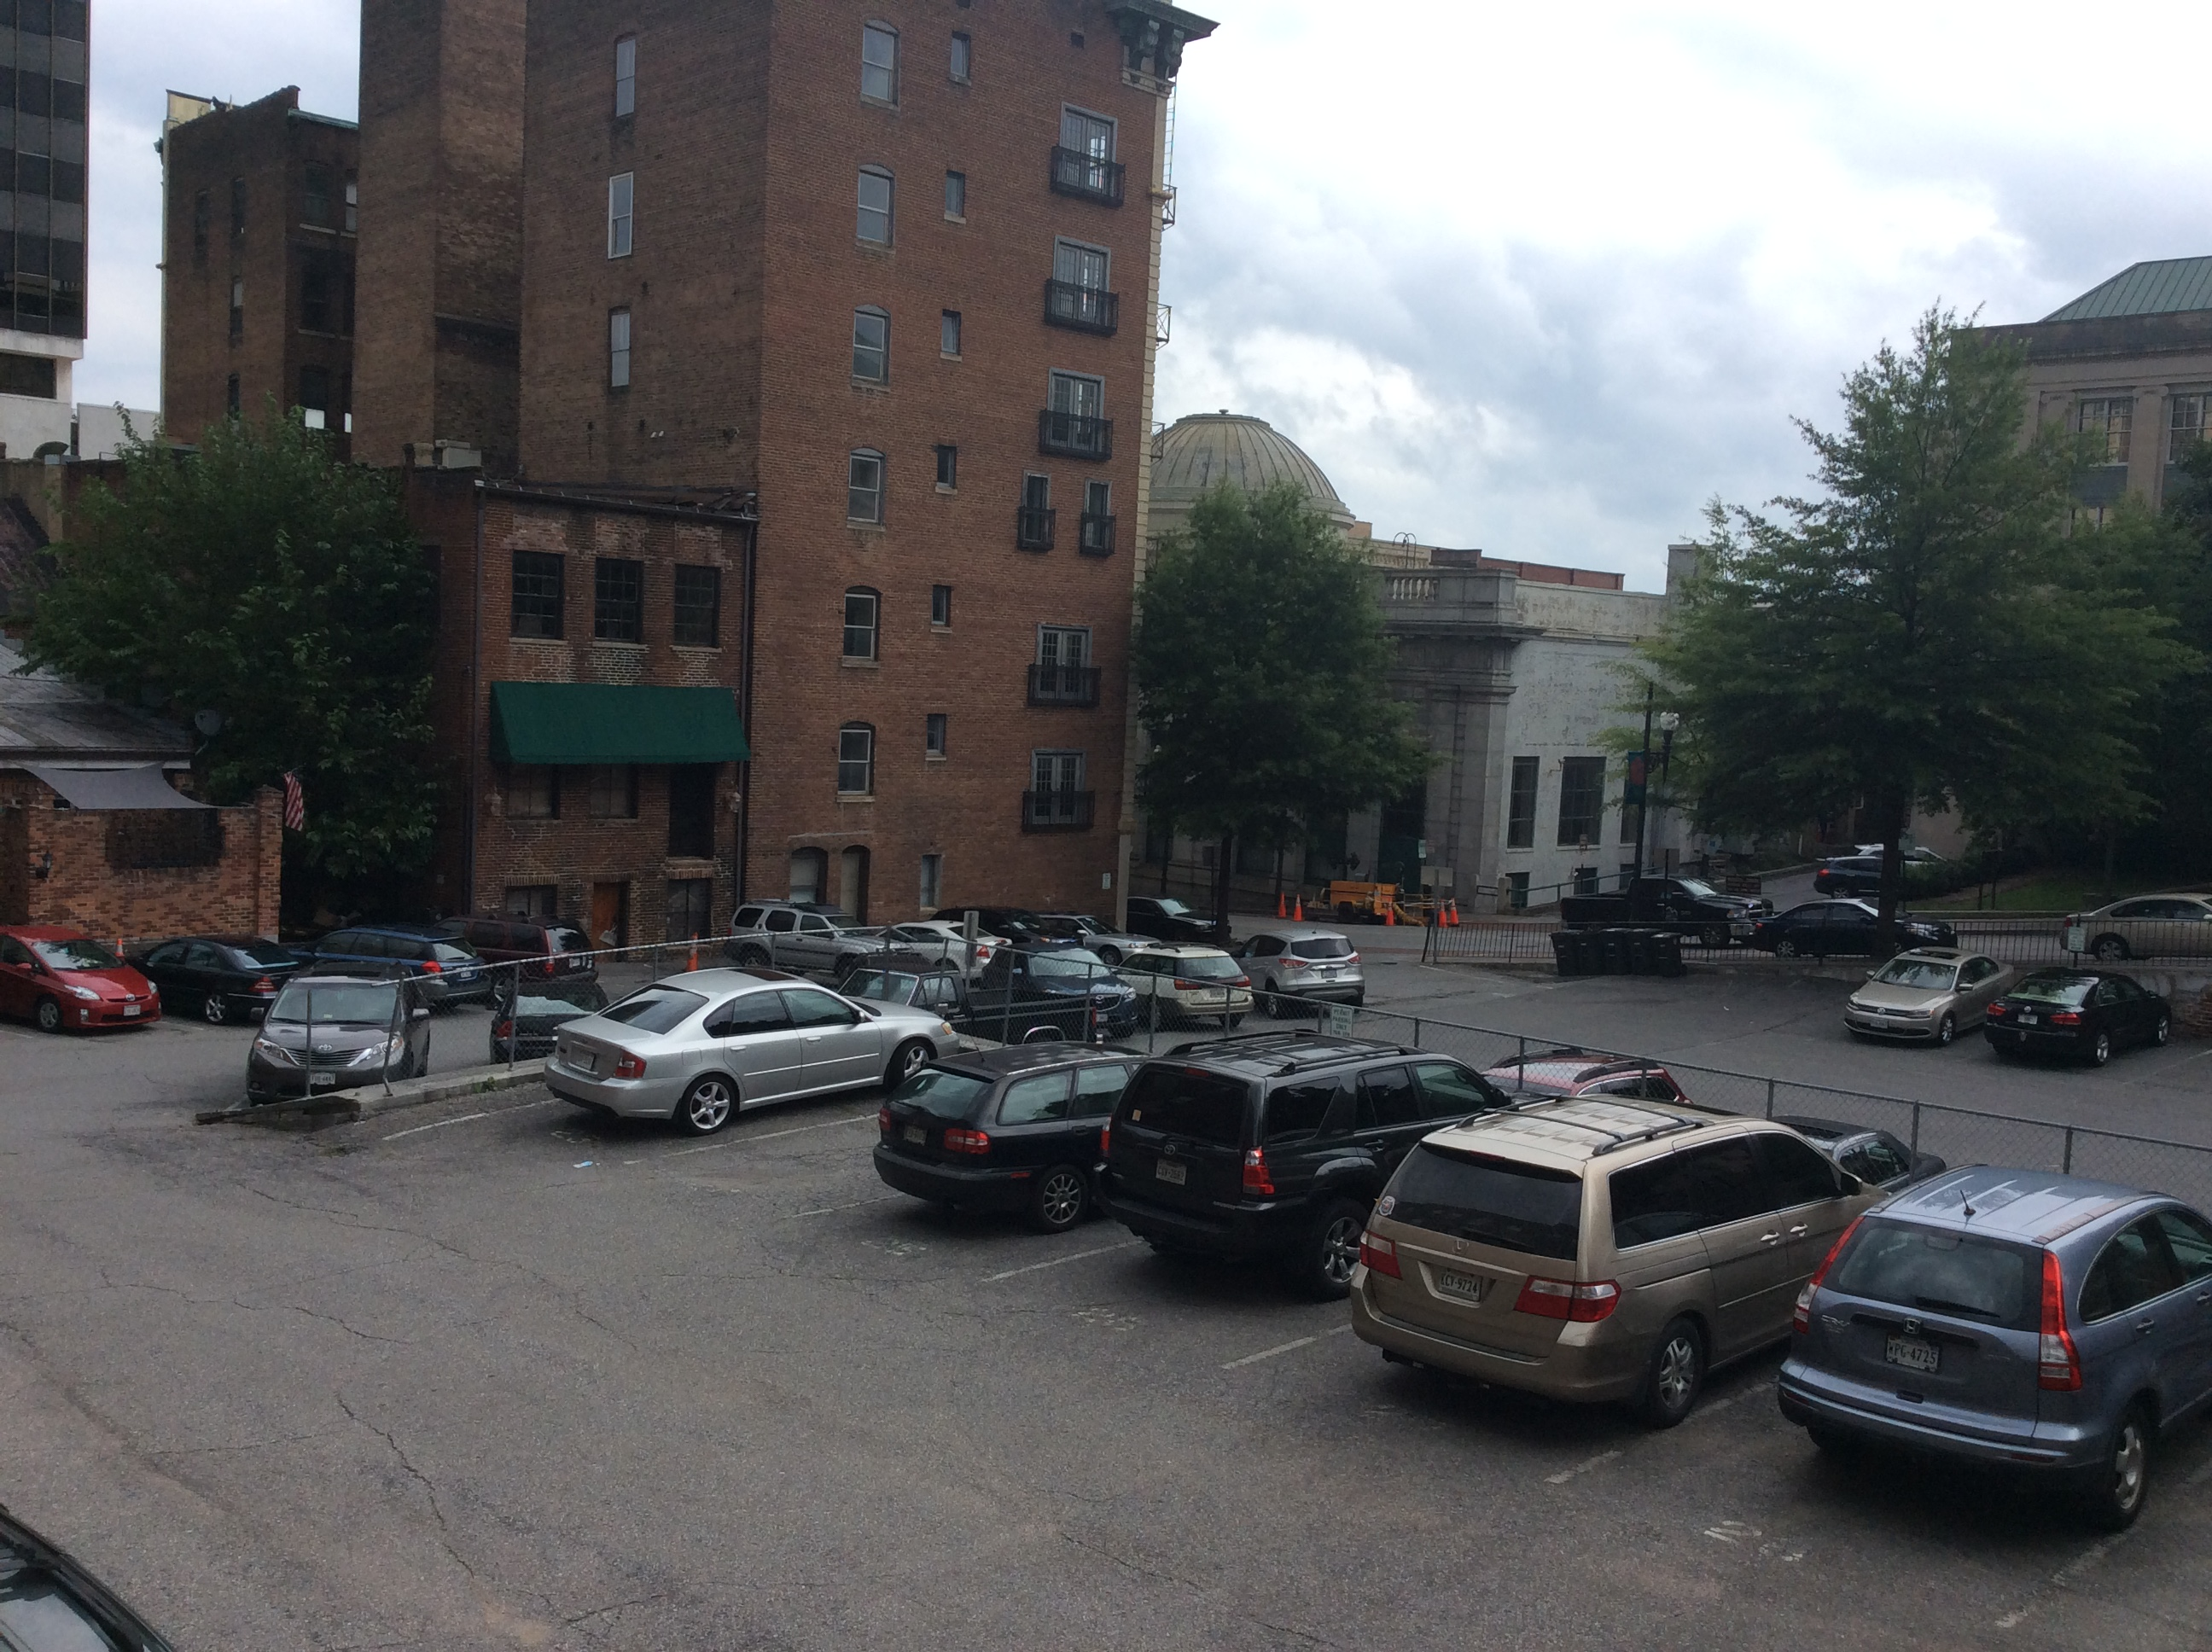empyt_space: (590, 1121, 892, 1222)
